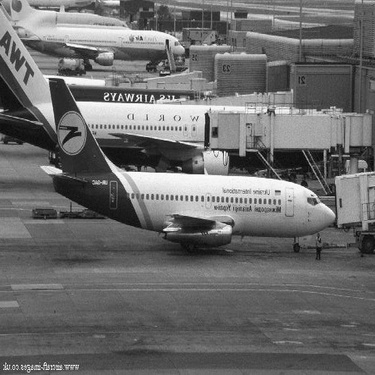airplane: (24, 72, 353, 258), (1, 3, 331, 165), (2, 47, 225, 114), (2, 5, 190, 68), (1, 1, 128, 37)
